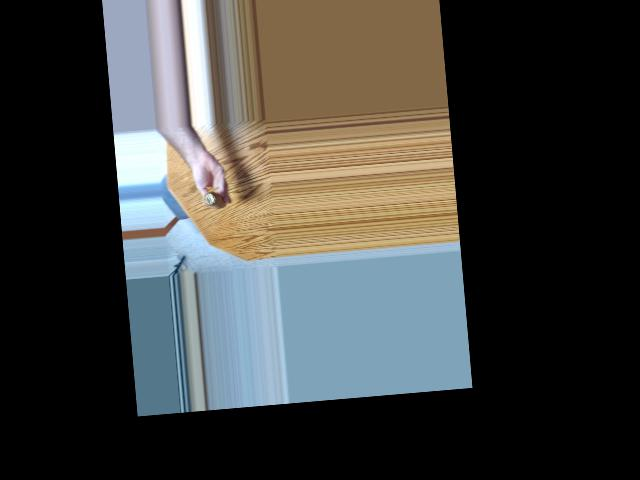sweet_potato: (198, 184, 227, 213)
